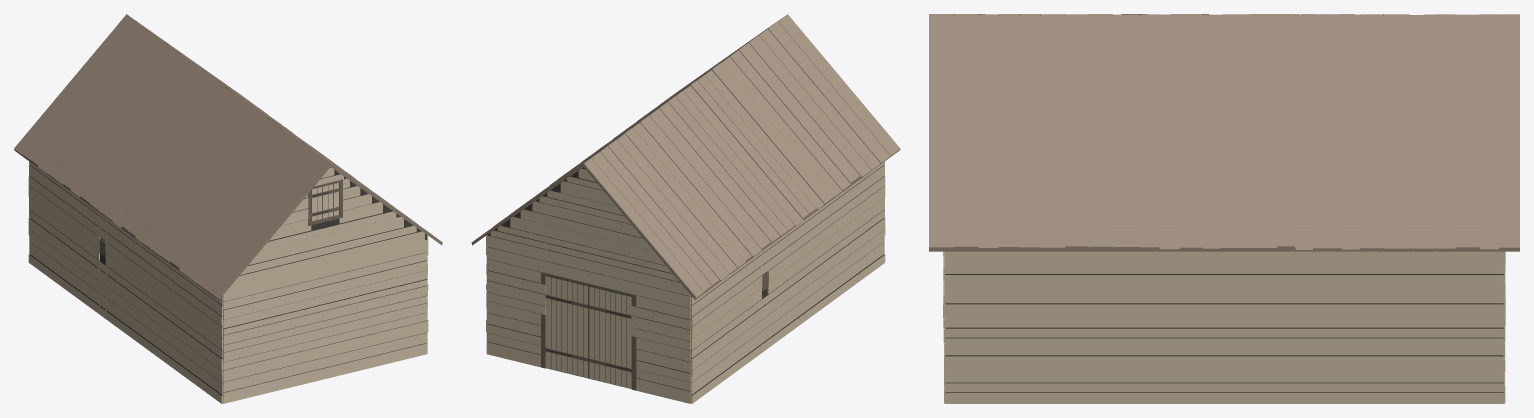
The model's file is recon_1835_south_a2_037__inferred_1835.glb.
3 views of the same model, side by side, from view 1: azimuth 30°, elevation 25°; view 2: azimuth 150°, elevation 25°; view 3: azimuth 270°, elevation 25° (orthographic). The views are drawn at different scales.
Visible parts, largest first — view 1: recon_1835_south_a2_037__inferred_1835; view 2: recon_1835_south_a2_037__inferred_1835; view 3: recon_1835_south_a2_037__inferred_1835.
Part boxes in pixels (<box>): recon_1835_south_a2_037__inferred_1835: <box>14,14,442,403</box>; recon_1835_south_a2_037__inferred_1835: <box>471,14,900,403</box>; recon_1835_south_a2_037__inferred_1835: <box>929,14,1519,403</box>.
Bounding box in the file's own units: 7.63 × 7.08 × 11.93.
